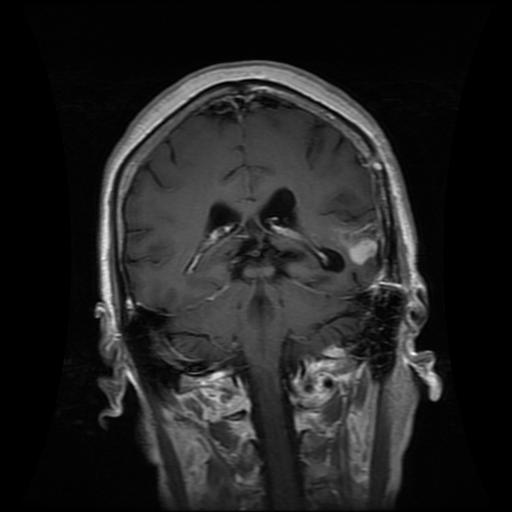Gliomia_tumour: (328, 222, 382, 266)
